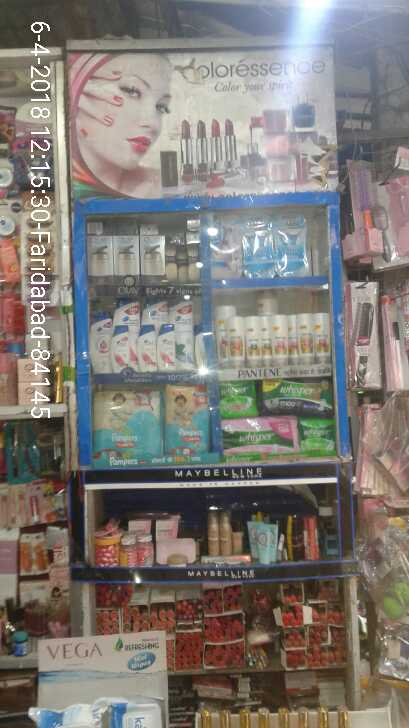venus: (275, 215, 310, 275), (243, 214, 275, 277)
